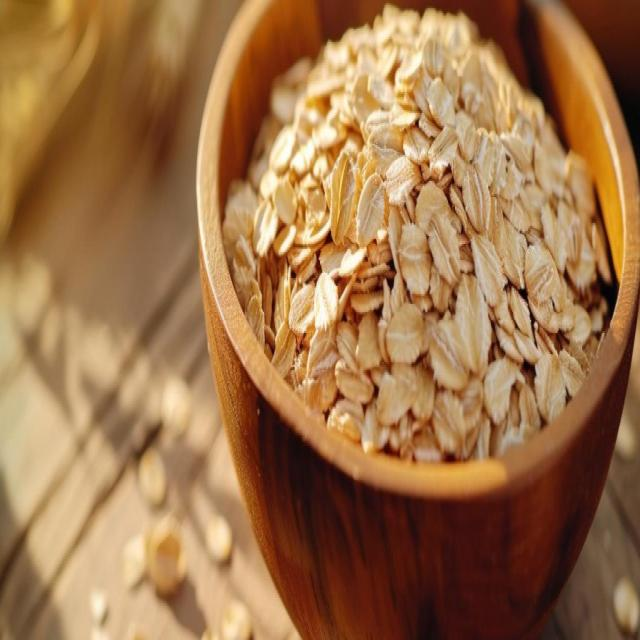avena: (226, 0, 619, 473)
